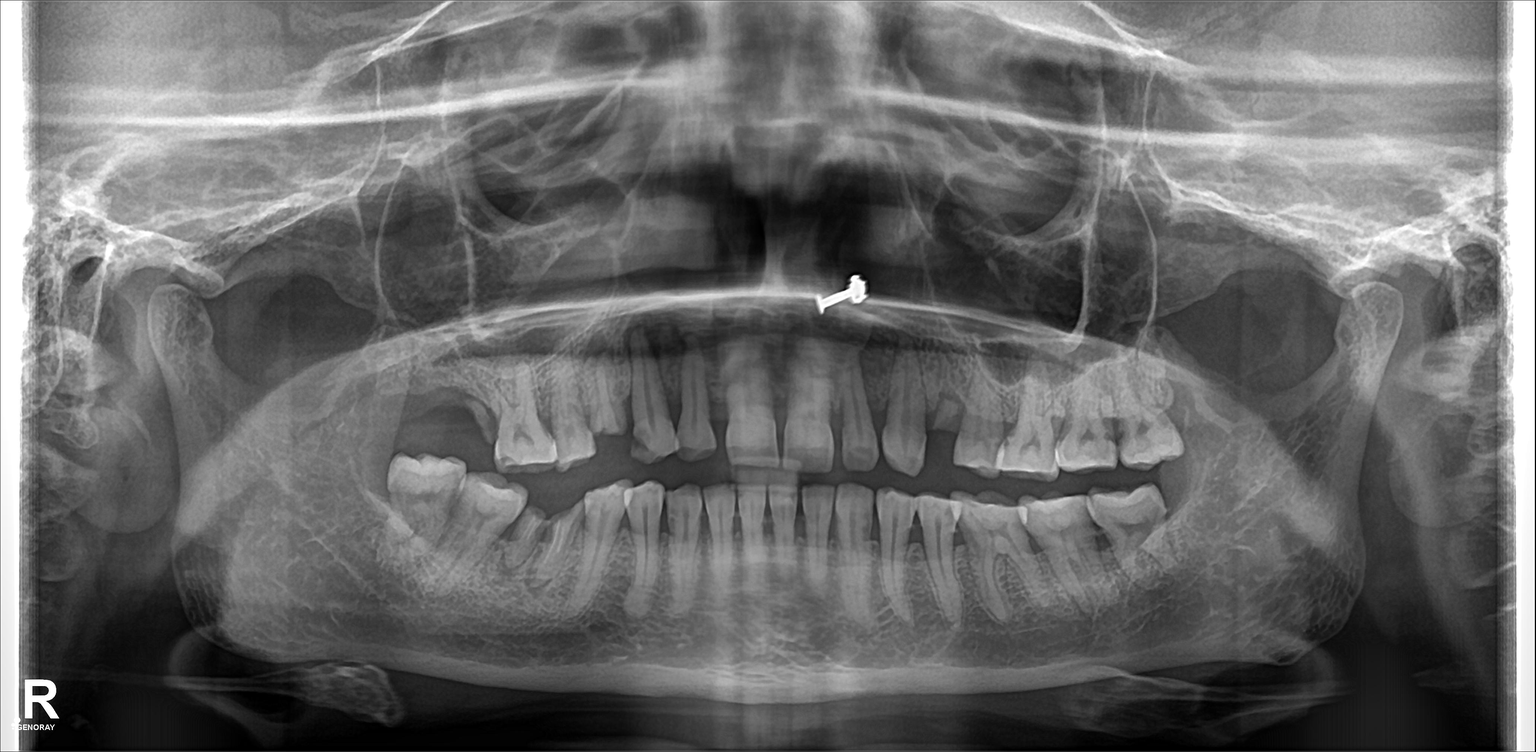Dental Caries: (1095, 415, 1128, 448)
Missing Tooth: (426, 359, 486, 444), (391, 359, 432, 442), (922, 370, 958, 453)
Retained Root: (581, 356, 632, 453), (549, 497, 585, 581), (516, 493, 547, 575)
